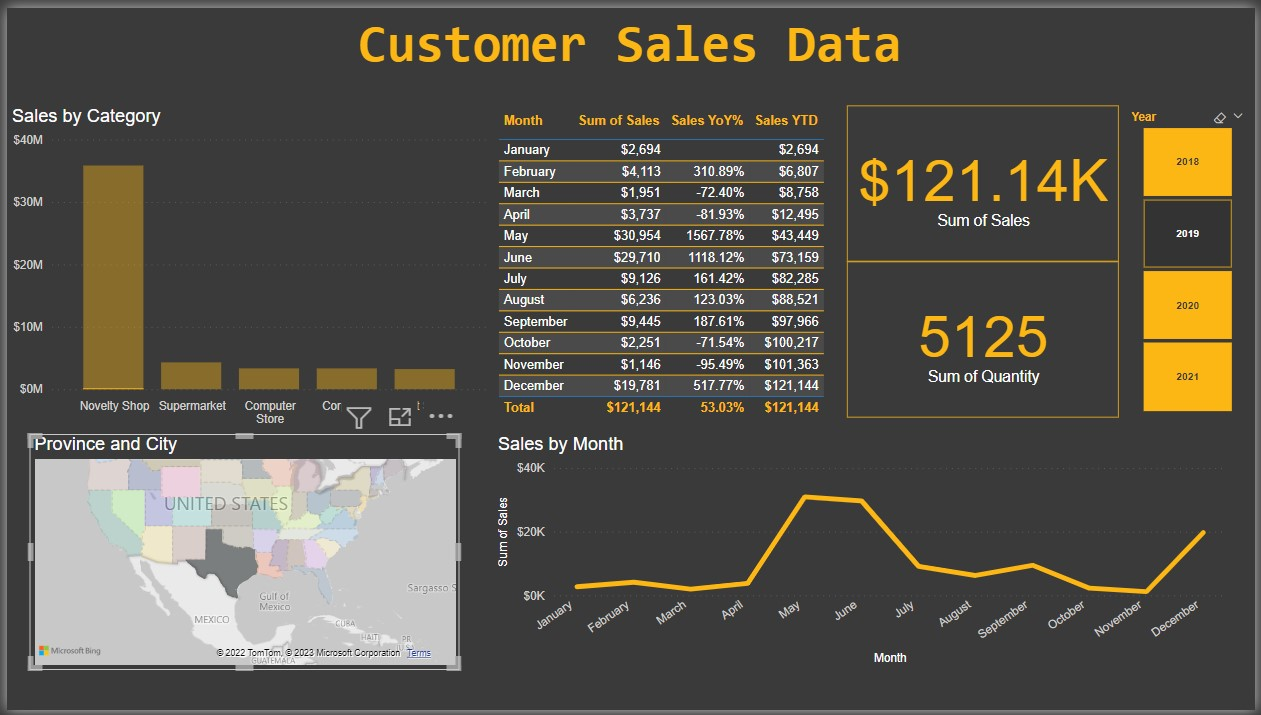

This screenshot's page, from the dashboard's own definition file:
{"tool":"powerbi","page":{"name":"Page 1","canvas":[1280,720],"ordinal":0},"visuals":[{"type":"clusteredColumnChart","title":"Sales by Category","fields":{"Y":["Sum(InvoiceData.Sales)"],"Category":["MasterCustomer.CustomerCategoryName"]},"box":[0,100,498.3,336.7],"z":0},{"type":"textbox","box":[343.3,0,591.7,73.3],"z":1000},{"type":"slicer","fields":{"Values":["InvoiceData.Date.Variation.Date Hierarchy.Year"]},"box":[1140,100,140,320],"z":2000},{"type":"tableEx","fields":{"Values":["InvoiceData.Date.Variation.Date Hierarchy.Month","Sum(InvoiceData.Sales)","InvoiceData.Sales YoY%","InvoiceData.Sales YTD"]},"box":[498.3,100,363.3,336.7],"z":3000},{"type":"lineChart","title":"Sales by Month","fields":{"Y":["Sum(InvoiceData.Sales)"],"Category":["InvoiceData.Date.Variation.Date Hierarchy.Month"]},"box":[498.3,436.7,756.7,241.7],"z":4000},{"type":"card","fields":{"Values":["Sum(InvoiceData.Sales)"]},"box":[861.7,100,278.3,160],"z":5000},{"type":"card","fields":{"Values":["Sum(InvoiceData.Quantity)"]},"box":[861.7,260,278.3,160],"z":6000},{"type":"filledMap","fields":{"Category":["MasterCustomer.Province"],"Series":["MasterCustomer.City"]},"box":[23.3,436.7,441.7,241.7],"z":6001}]}

Visuals, with their boxes in screenshot pixels (x1, y1, x2, y2), scaled from the page's 1280x720 canvas onto the 1261x715 screenshot:
"Sales by Category" clusteredColumnChart: <box>0,99,491,434</box>
textbox: <box>338,0,921,73</box>
slicer - InvoiceData.Date.Variation.Date Hierarchy.Year: <box>1123,99,1260,417</box>
tableEx - InvoiceData.Date.Variation.Date Hierarchy.Month x Sum(InvoiceData.Sales): <box>491,99,849,434</box>
"Sales by Month" lineChart: <box>491,434,1236,674</box>
card - Sum(InvoiceData.Sales): <box>849,99,1123,258</box>
card - Sum(InvoiceData.Quantity): <box>849,258,1123,417</box>
filledMap - MasterCustomer.Province x MasterCustomer.City: <box>23,434,458,674</box>
